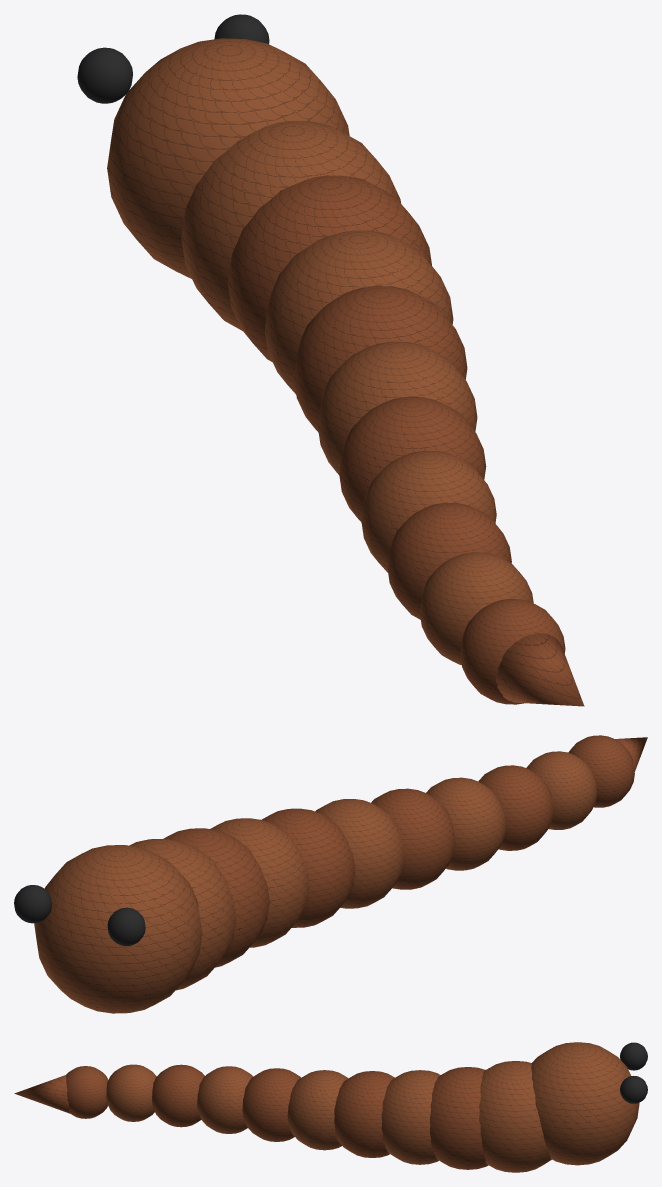
Rendered from burrow-worm.glb.
The picture shows the model from 3 angles, top to bottom: view 1: azimuth 30°, elevation 25°; view 2: azimuth 150°, elevation 25°; view 3: azimuth 270°, elevation 25°; orthographic projection. The views are drawn at different scales.
Parts seen in each view (by area): view 1: Head, Segment, Segment.001, Segment.002, Segment.003, Segment.004, Segment.005, Segment.006, Segment.007, Segment.008, Segment.009, Tail (+2 smaller); view 2: Head, Segment.003, Segment.004, Segment.002, Segment, Segment.005, Segment.001, Segment.006, Segment.007, Segment.008, Segment.009, Eye.001 (+2 smaller); view 3: Head, Segment, Segment.001, Segment.002, Segment.003, Segment.004, Segment.005, Segment.006, Segment.007, Segment.008, Segment.009, Tail (+2 smaller).
Part boxes in pixels (x1,y1,x2,y2): Head: (107,38,349,278); Segment: (181,121,401,330); Segment.001: (228,175,431,361); Segment.002: (264,230,453,394); Segment.003: (294,286,467,432); Segment.004: (317,341,477,474); Segment.005: (339,397,486,522); Segment.006: (361,450,496,572); Segment.007: (387,502,511,619); Segment.008: (419,552,533,664); Segment.009: (460,599,565,704); Tail: (495,633,584,706); Head: (34,845,202,1013); Segment.003: (261,808,355,927); Segment.004: (315,799,404,908); Segment.002: (210,818,309,947); Segment: (129,838,236,990); Segment.005: (371,788,455,889); Segment.001: (164,828,269,967); Segment.006: (426,777,505,870); Segment.007: (478,765,553,850); Segment.008: (526,751,596,829); Segment.009: (568,735,634,807); Eye.001: (14,885,52,923); Head: (531,1042,639,1165); Segment: (479,1061,551,1172); Segment.001: (429,1067,488,1169); Segment.002: (381,1070,440,1164); Segment.003: (334,1071,394,1157); Segment.004: (287,1070,348,1150); Segment.005: (242,1068,301,1141); Segment.006: (197,1066,253,1133); Segment.007: (152,1064,204,1127); Segment.008: (106,1064,156,1121); Segment.009: (66,1066,108,1118); Tail: (14,1075,84,1118).
Bounding box in the file's own units: 0.7433 × 0.47 × 2.25.
Materials: 3 (2 with a texture image).
